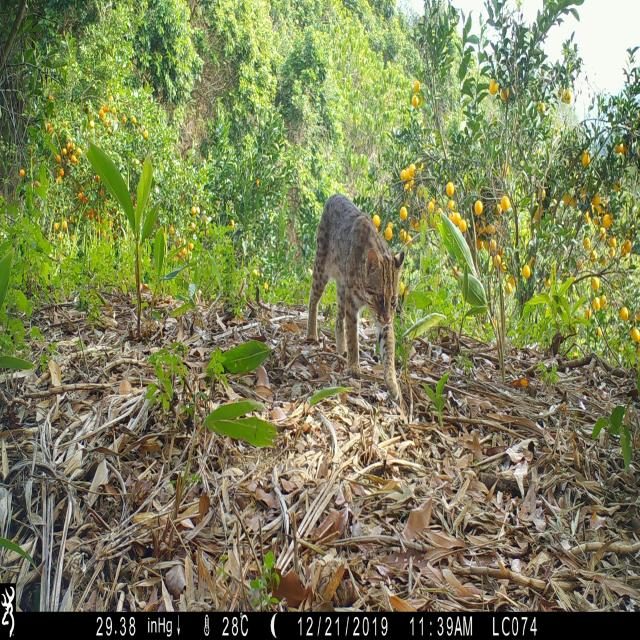leopard: (310, 160, 426, 428)
